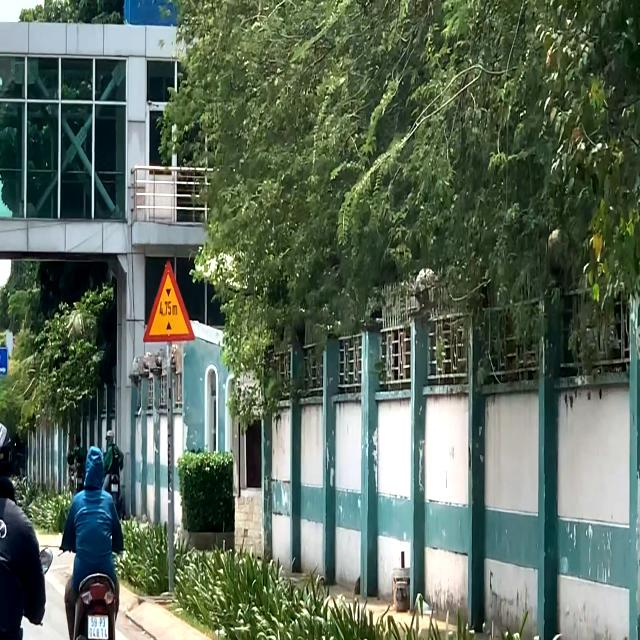Chieu cao an toan: (141, 258, 198, 346)
